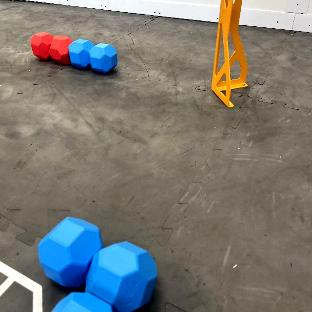V5_BLUE: (39, 217, 156, 312), (53, 292, 112, 312), (88, 43, 116, 72), (70, 39, 94, 67)
V5_RED: (31, 33, 71, 62)
